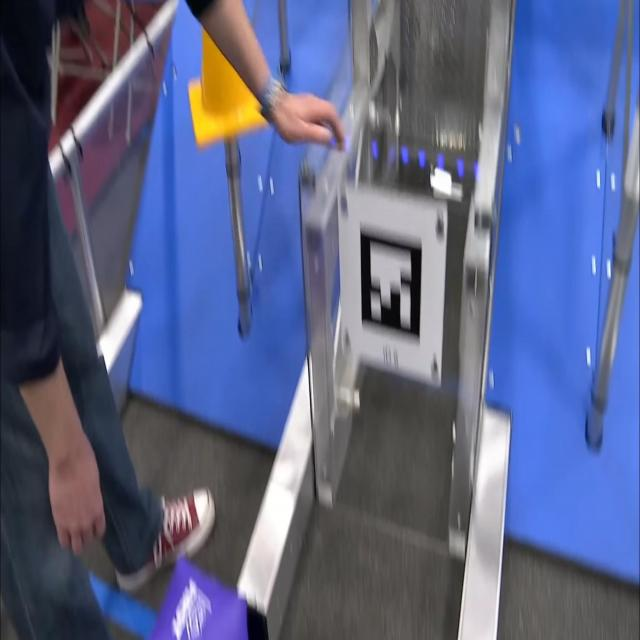frc_cone: (182, 0, 269, 143)
frc_cube: (149, 557, 250, 640)
